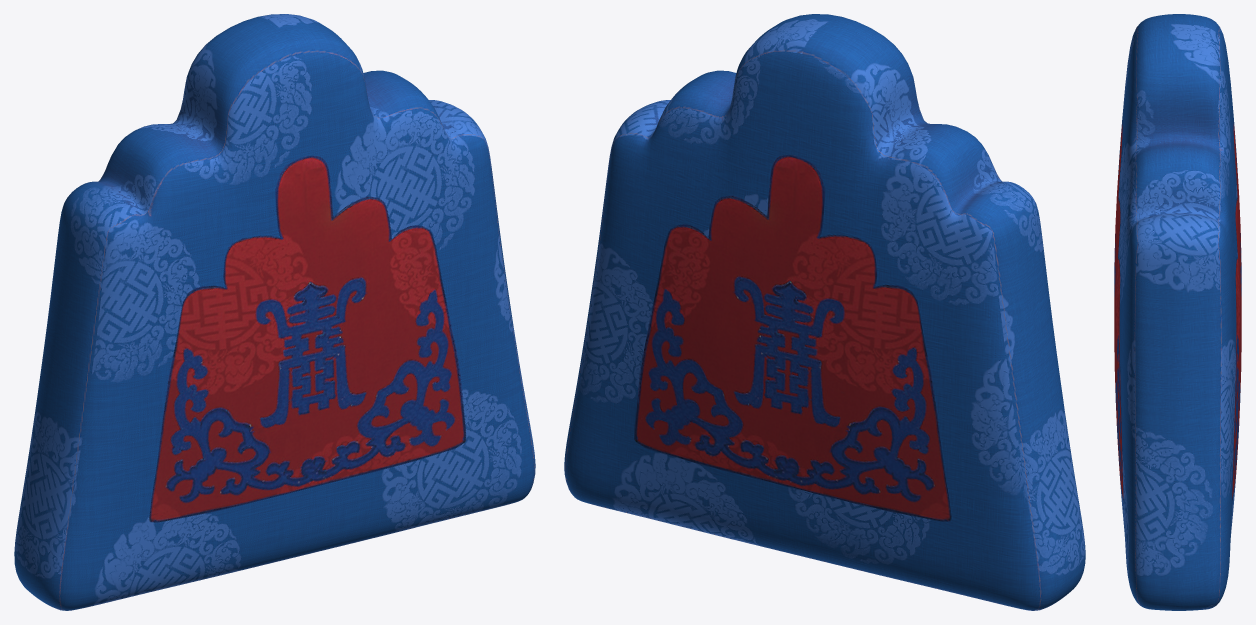
File: SM_BackrestCushion.fbx
The picture shows the model from 3 angles, left to right: view 1: azimuth 30°, elevation 25°; view 2: azimuth 150°, elevation 25°; view 3: azimuth 270°, elevation 25°; orthographic projection. The views are drawn at different scales.
Visible parts, largest first — view 1: SM_BackrestCushion; view 2: SM_BackrestCushion; view 3: SM_BackrestCushion.
Part boxes in pixels (x1,y1,x2,y2): SM_BackrestCushion: [14, 14, 535, 610]; SM_BackrestCushion: [564, 14, 1085, 610]; SM_BackrestCushion: [1114, 14, 1241, 610].
Bounding box in the file's own units: 47.13 × 47.31 × 11.34.
Materials: 1 (1 with a texture image).
